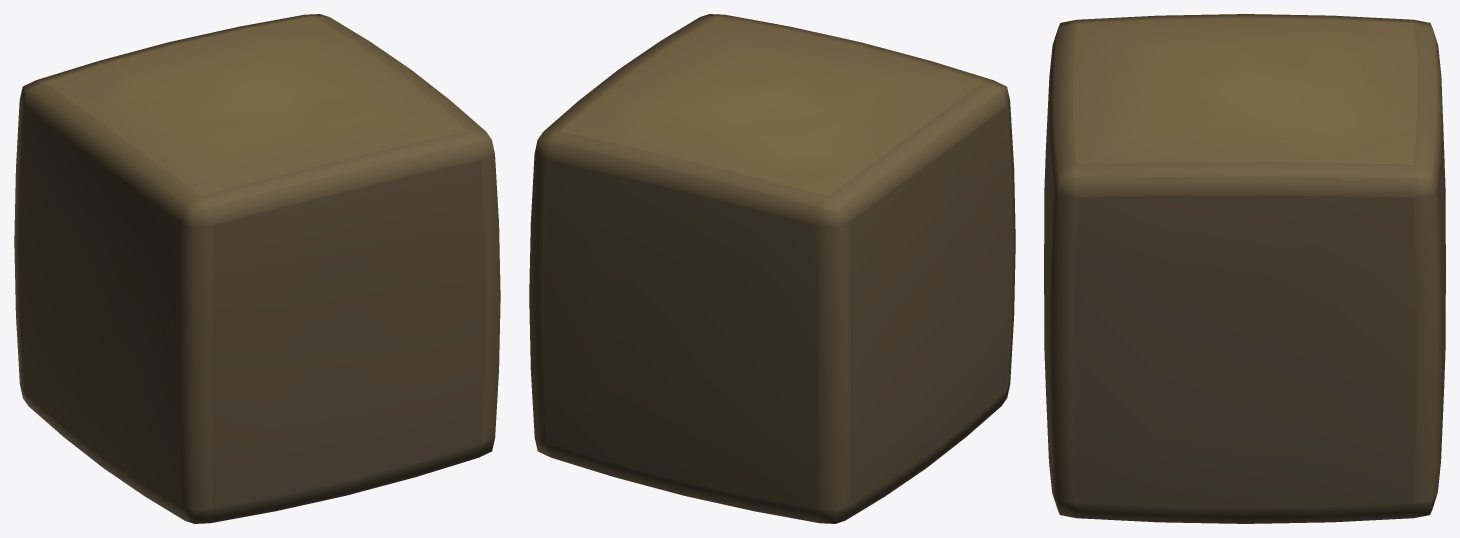
Rendered from block_stone5_3_LOD_setup.fbx.
3 renders of one model, left to right at view 1: azimuth 30°, elevation 25°; view 2: azimuth 150°, elevation 25°; view 3: azimuth 270°, elevation 25°, orthographic. The views are drawn at different scales.
Parts seen in each view (by area): view 1: block_stone5_3_LOD0; view 2: block_stone5_3_LOD0; view 3: block_stone5_3_LOD0.
Part boxes in pixels (box(x1,y1,x2,y2)): block_stone5_3_LOD0: box(14, 14, 500, 523); block_stone5_3_LOD0: box(529, 14, 1015, 523); block_stone5_3_LOD0: box(1044, 14, 1445, 523).
Size of what is drawn, in the model's own units: 109 by 109 by 109.
